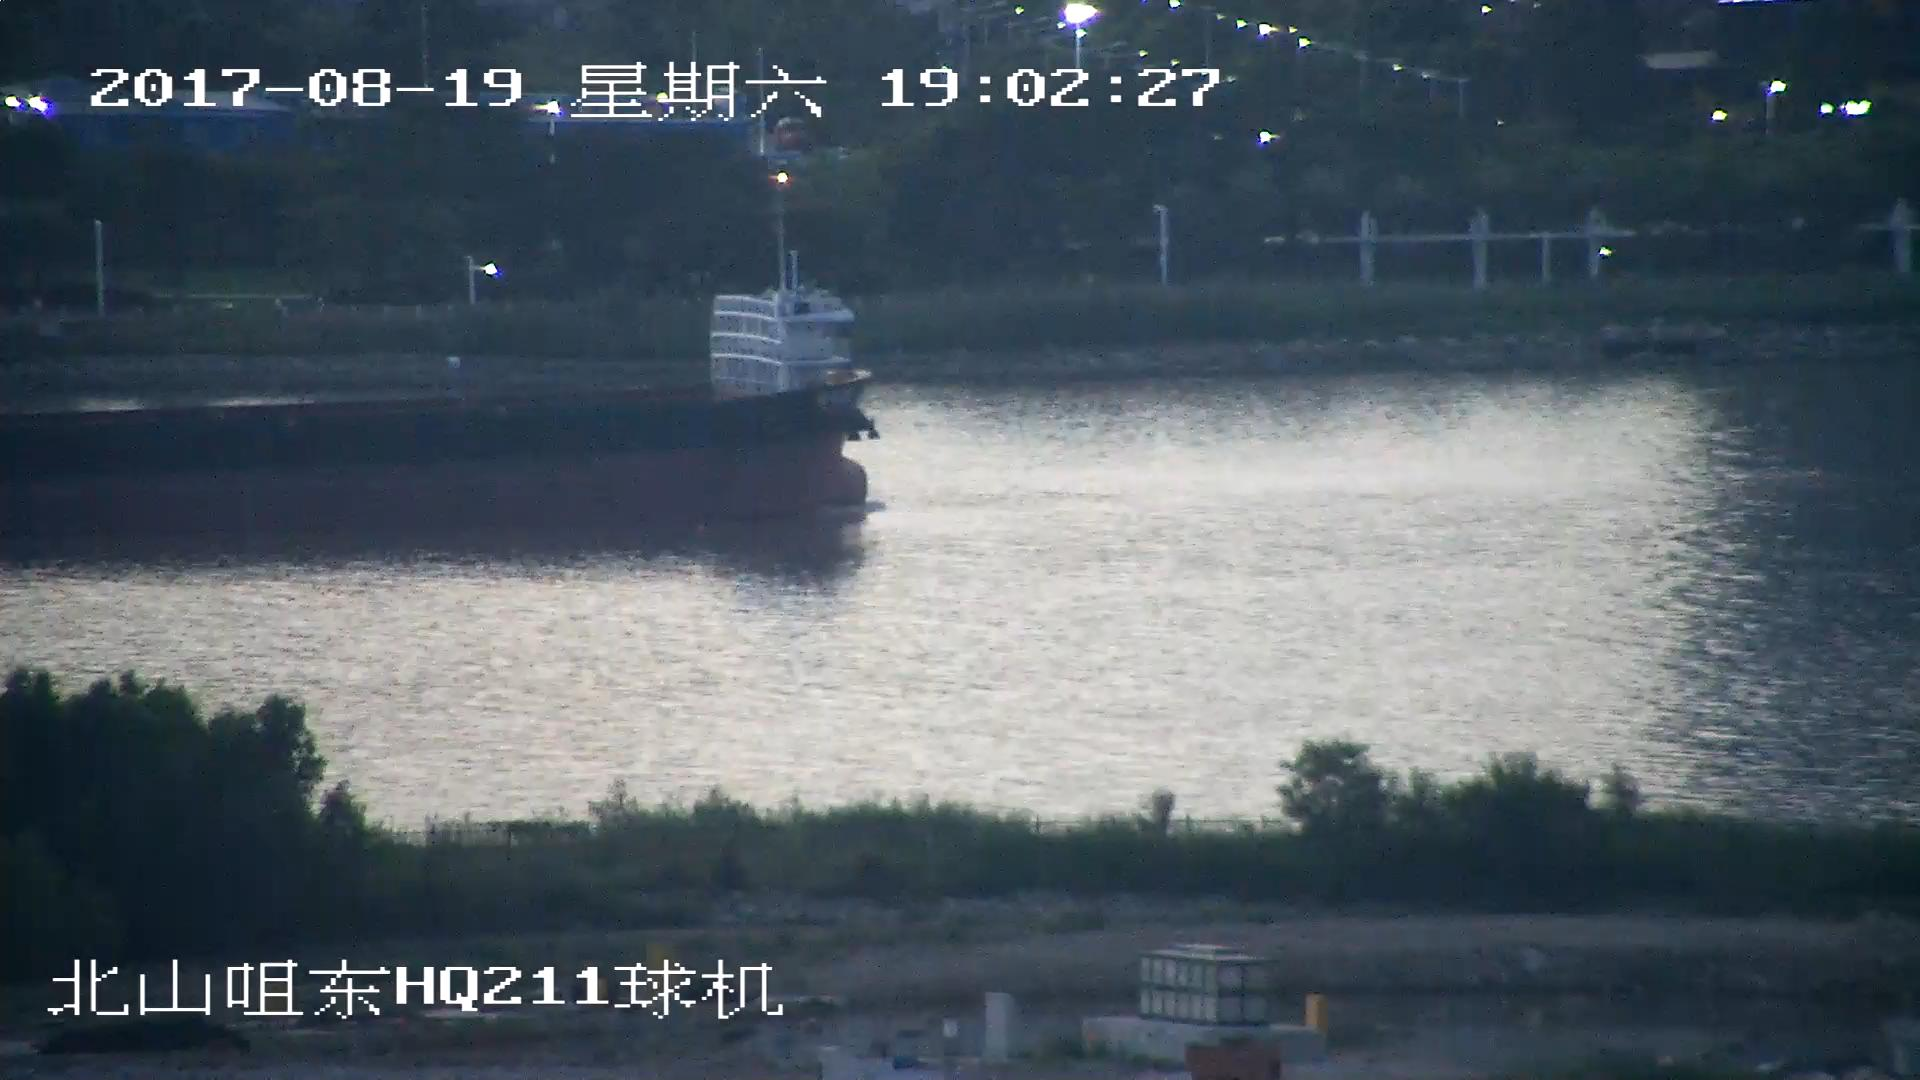general cargo ship: (1, 291, 881, 522)
